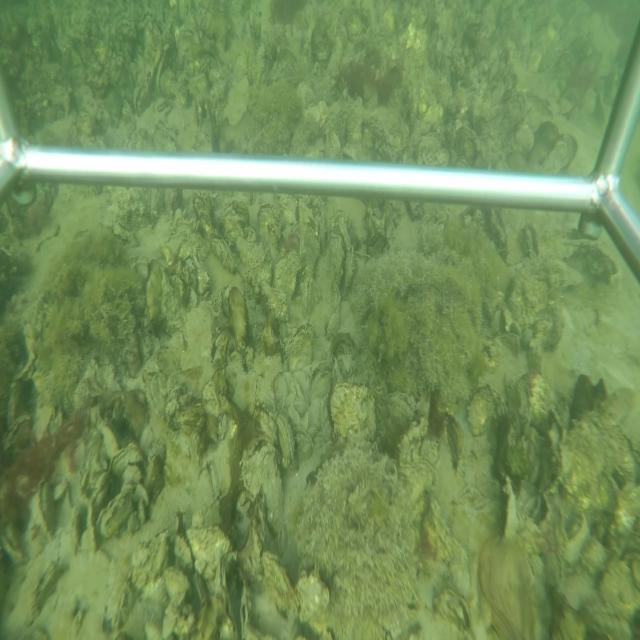Oyster-Closed: (4, 527, 77, 630), (330, 380, 380, 443), (259, 551, 298, 626), (208, 558, 240, 640), (87, 472, 114, 553), (98, 491, 132, 542), (272, 248, 301, 302), (257, 203, 281, 263), (109, 441, 145, 477), (274, 411, 294, 474), (4, 411, 33, 449), (238, 580, 249, 640)
Oyster-Indeterminate: (225, 283, 248, 348), (446, 413, 465, 479)
Oyster-Open: (285, 319, 317, 368)
